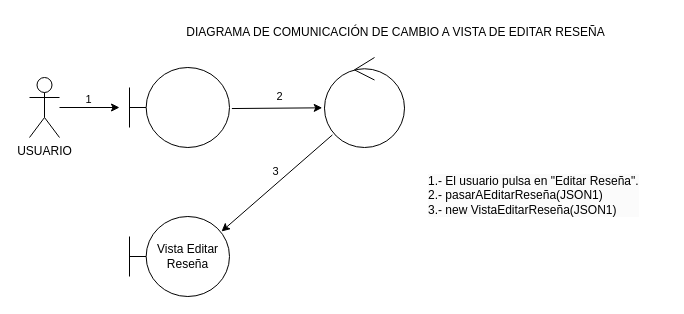
Image size: 684x314. Some labels were removed from this diagram. The shapes that lost their labels are listed below. From the top down, each one's centre as x and y in pixels, then its label:
pixel 179 107: Vista Libro
pixel 364 102: webServer
